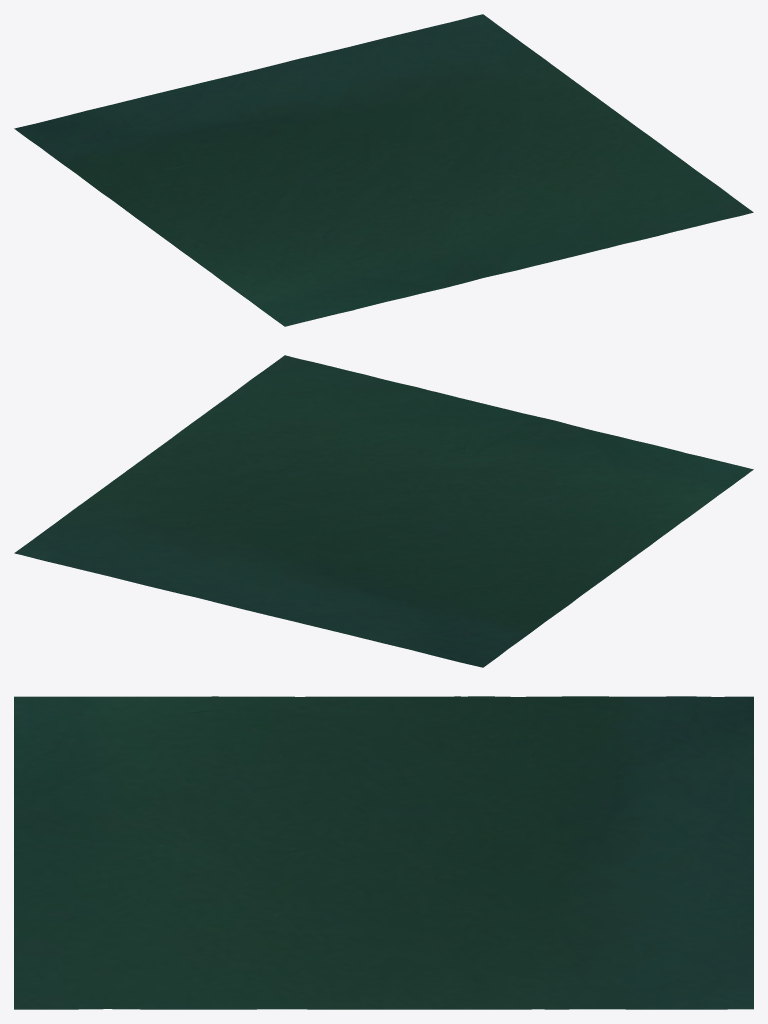
The picture shows the model from 3 angles, top to bottom: view 1: azimuth 30°, elevation 25°; view 2: azimuth 150°, elevation 25°; view 3: azimuth 270°, elevation 25°; orthographic projection. The views are drawn at different scales.
Size of the model in its own units: 418 by 0.7385 by 418.
Materials: 3 (3 with a texture image).
